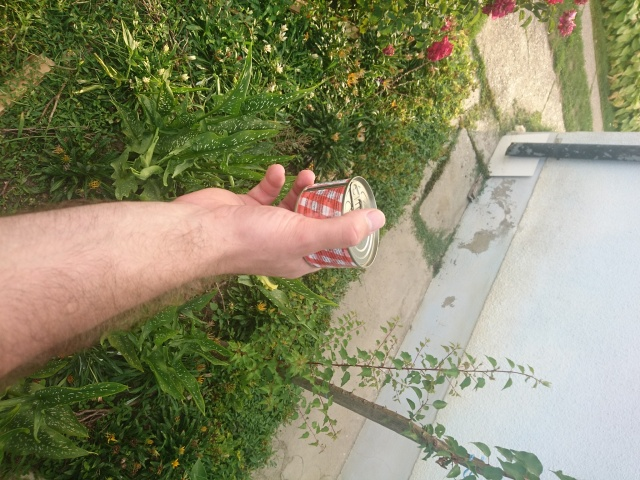Podravka Luncheon Meat 150g: (289, 173, 383, 275)
